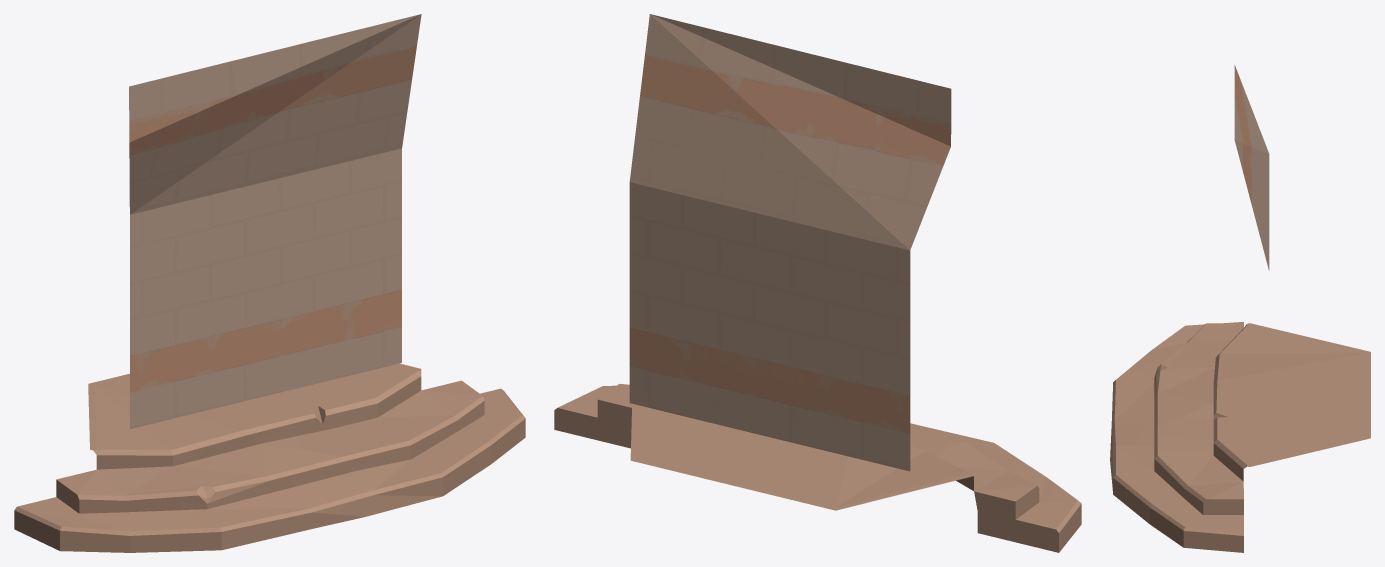
The model's file is templeEnd.fbx.
The picture shows the model from 3 angles, left to right: view 1: azimuth 30°, elevation 25°; view 2: azimuth 150°, elevation 25°; view 3: azimuth 270°, elevation 25°; orthographic projection. The views are drawn at different scales.
Parts seen in each view (by area): view 1: templeEnd; view 2: templeEnd; view 3: templeEnd.
Part boxes in pixels (bbox=[...]): templeEnd: bbox=[14, 14, 525, 552]; templeEnd: bbox=[554, 14, 1081, 552]; templeEnd: bbox=[1110, 65, 1370, 552].
Bounding box in the file's own units: 7.93 × 6.51 × 4.11.
